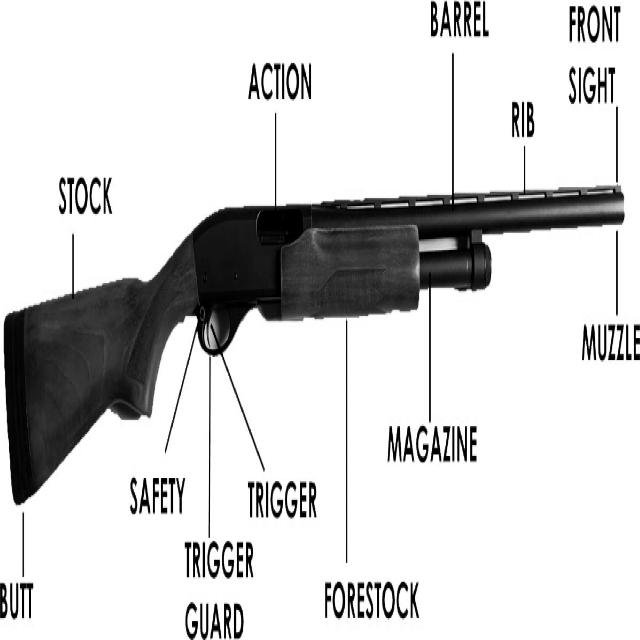Short-Gun: (2, 63, 622, 532)
